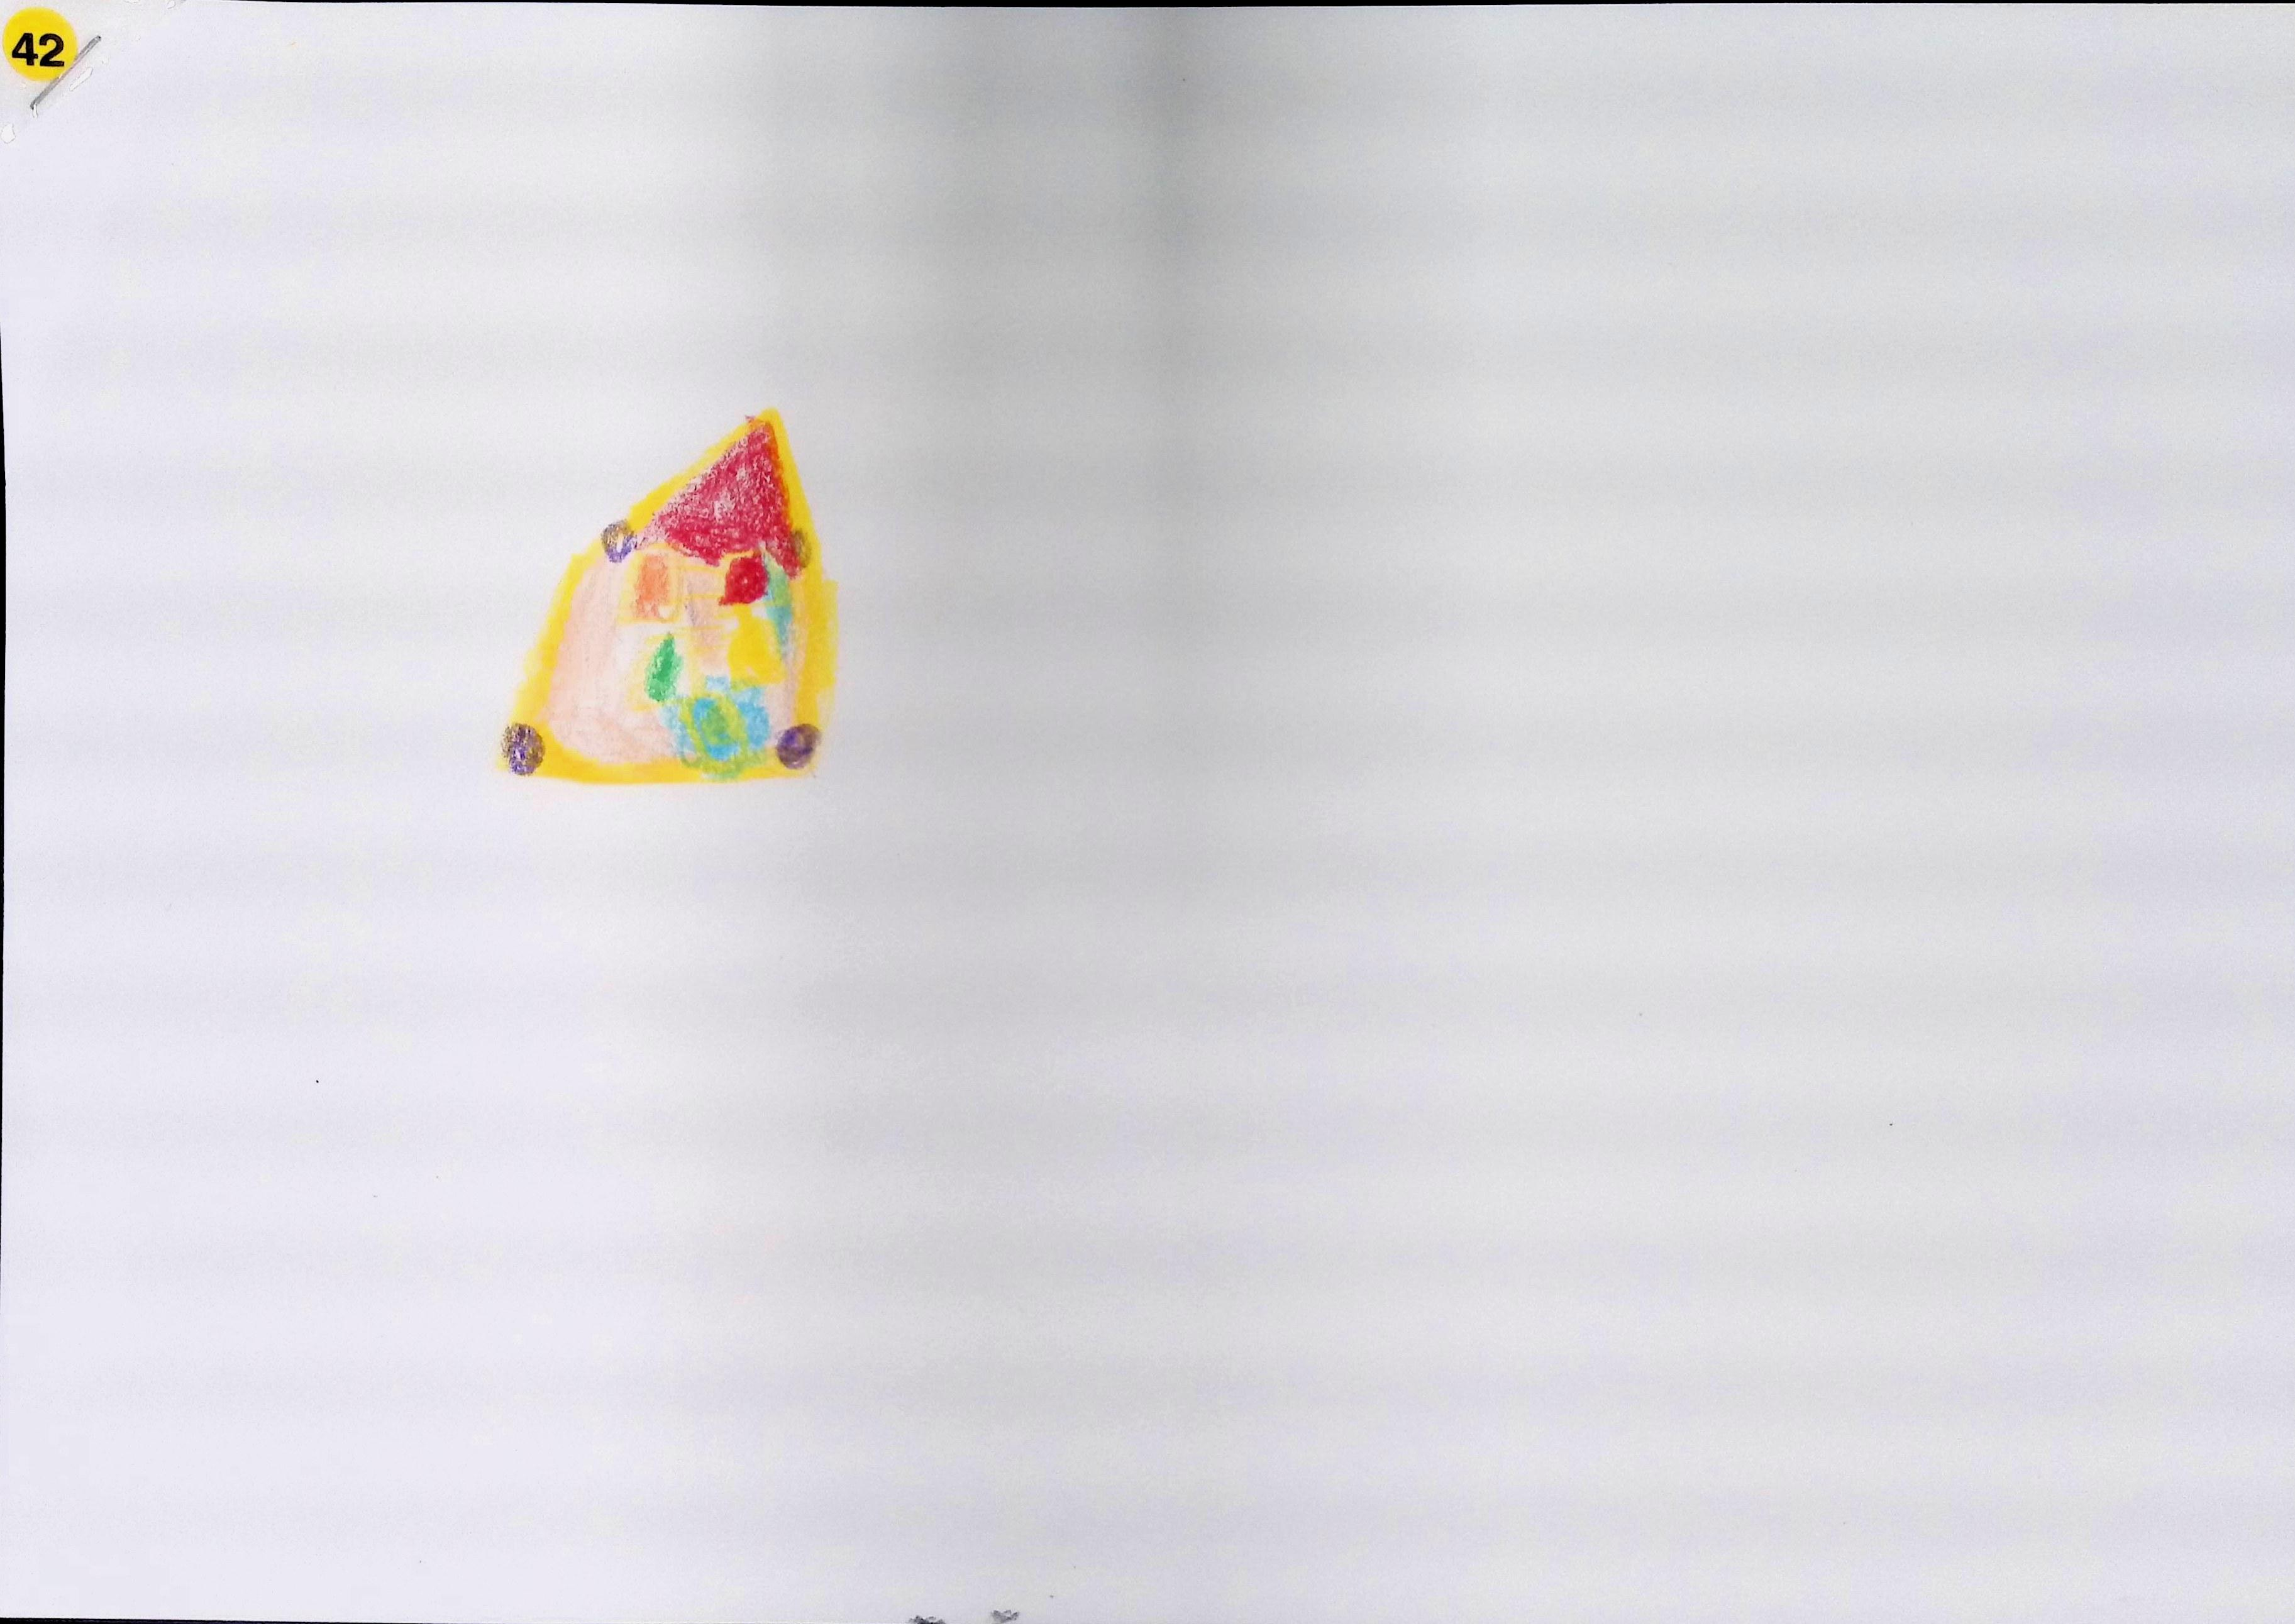door: (659, 685, 768, 777)
house: (503, 410, 833, 780)
roof: (640, 420, 803, 575)
wall: (545, 529, 815, 770)
window: (726, 603, 784, 687), (643, 634, 682, 701), (631, 554, 670, 619), (720, 550, 768, 603)
